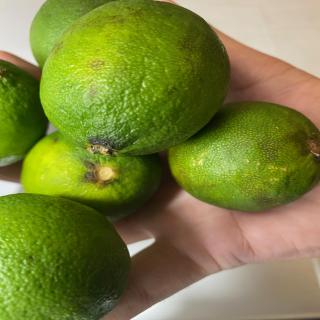Chilli: (38, 0, 232, 157), (167, 100, 320, 212)
Lemon: (0, 192, 132, 320), (20, 129, 162, 222), (0, 59, 49, 167)
